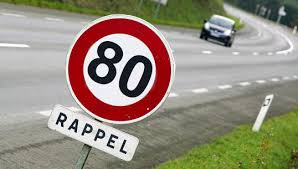Speed_limit_80km: (66, 14, 175, 123)
